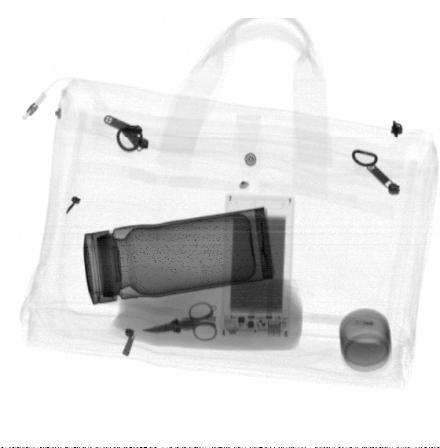Powerbank: (217, 193, 294, 339)
Scissors: (139, 300, 219, 343)
